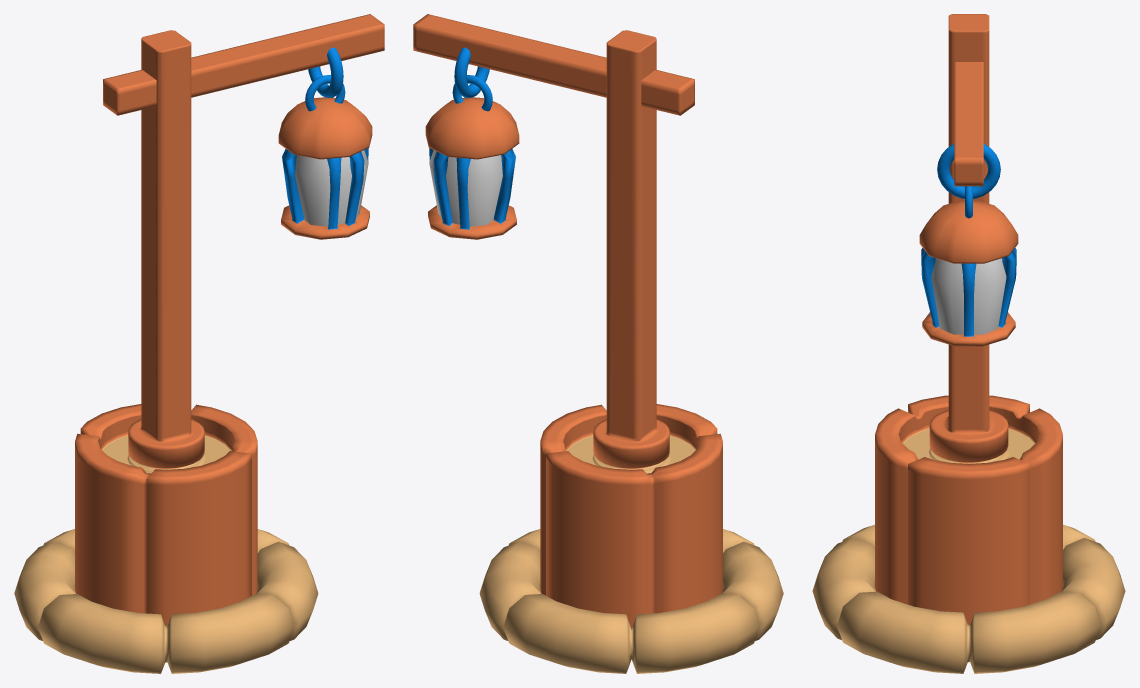
The model's file is streetlamb2.fbx.
3 renders of one model, left to right at view 1: azimuth 30°, elevation 25°; view 2: azimuth 150°, elevation 25°; view 3: azimuth 270°, elevation 25°, orthographic. The views are drawn at different scales.
Visible parts, largest first — view 1: Torus; view 2: Torus; view 3: Torus.
Boxes of the visible parts, x1,y1,x2,y2 form: Torus: (14,14,384,673); Torus: (413,14,783,673); Torus: (812,14,1125,673).
Bounding box in the file's own units: 325 × 526 × 250.
